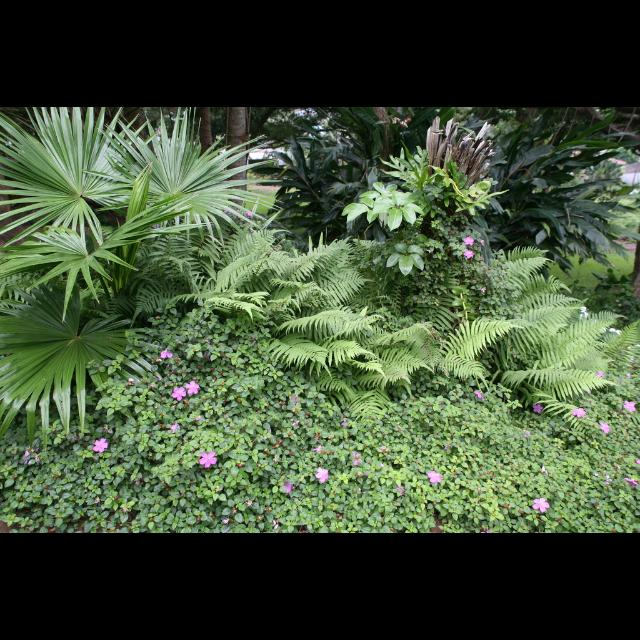Flower: (197, 450, 217, 470), (92, 438, 110, 454), (424, 471, 444, 485), (171, 388, 185, 404), (186, 380, 200, 396), (316, 467, 330, 483), (571, 406, 587, 420), (281, 481, 295, 495), (600, 421, 614, 435), (622, 401, 636, 415), (534, 501, 548, 514), (352, 452, 363, 468), (532, 404, 546, 416), (160, 347, 173, 359), (625, 477, 637, 488), (464, 247, 474, 260), (170, 420, 178, 436), (462, 236, 474, 246), (474, 392, 486, 401), (578, 306, 586, 318), (610, 327, 622, 335), (314, 445, 324, 453), (633, 458, 639, 467), (481, 239, 485, 247)
